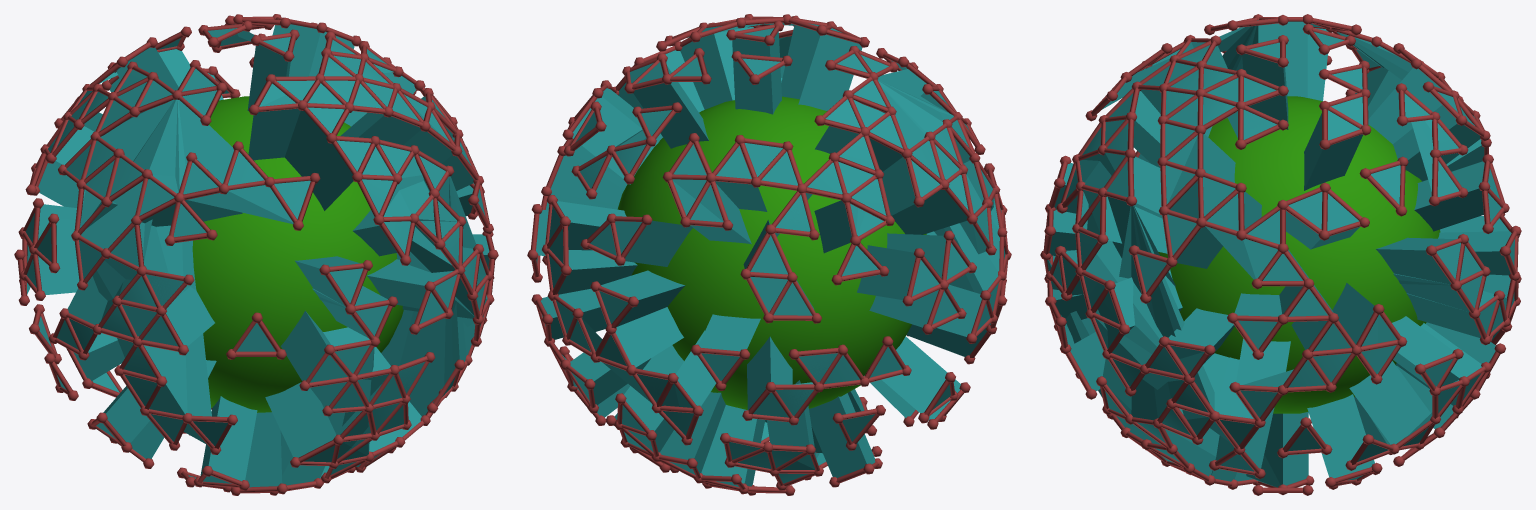
File: SpherePlanet05.FBX
The picture shows the model from 3 angles, left to right: view 1: azimuth 30°, elevation 25°; view 2: azimuth 150°, elevation 25°; view 3: azimuth 270°, elevation 25°; orthographic projection.
Visible parts, largest first — view 1: GeoSphere014, GeoSphere013, GeoSphere012; view 2: GeoSphere014, GeoSphere013, GeoSphere012; view 3: GeoSphere014, GeoSphere013, GeoSphere012.
Boxes of the visible parts, box(x1,y1,x2,y2) form: GeoSphere014: box(25, 24, 489, 487); GeoSphere013: box(14, 14, 498, 495); GeoSphere012: box(192, 96, 403, 412); GeoSphere014: box(536, 22, 1005, 486); GeoSphere013: box(527, 14, 1011, 495); GeoSphere012: box(617, 96, 926, 409); GeoSphere014: box(1047, 20, 1514, 487); GeoSphere013: box(1040, 14, 1521, 495); GeoSphere012: box(1158, 96, 1440, 413).
Size of the model in its own units: 121 by 121 by 121.
